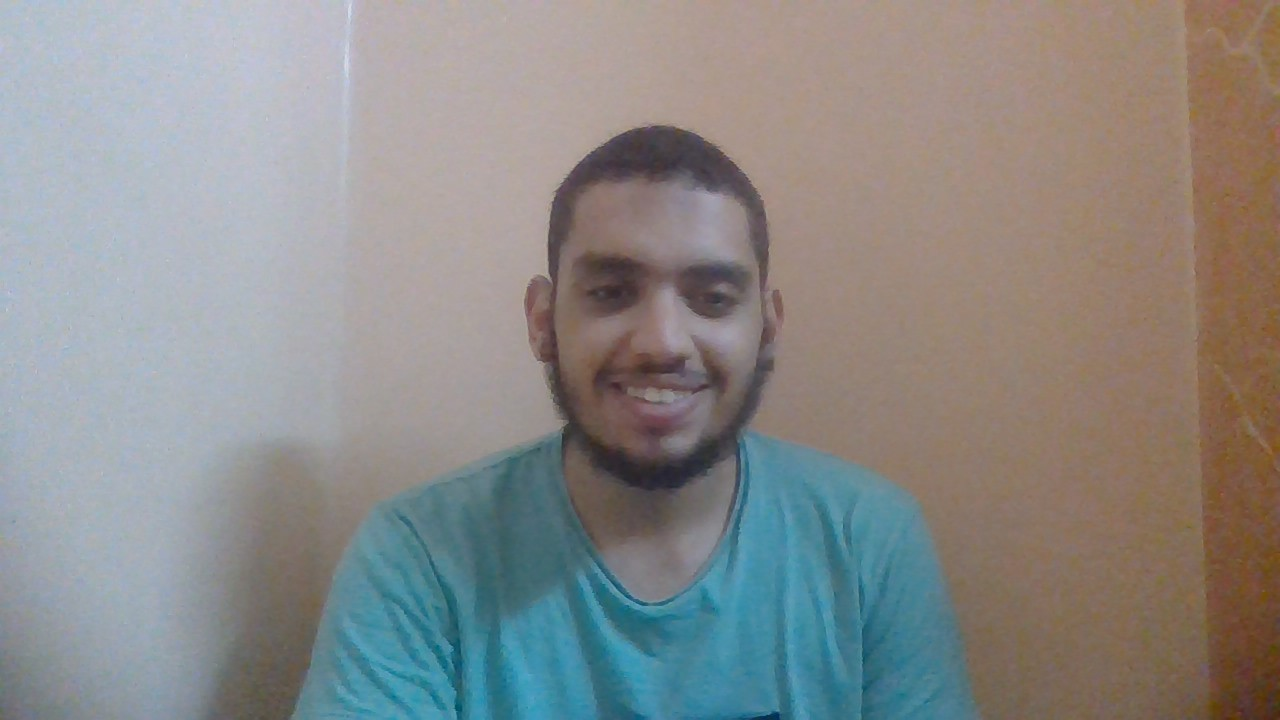Nomask: (532, 310, 780, 477)
